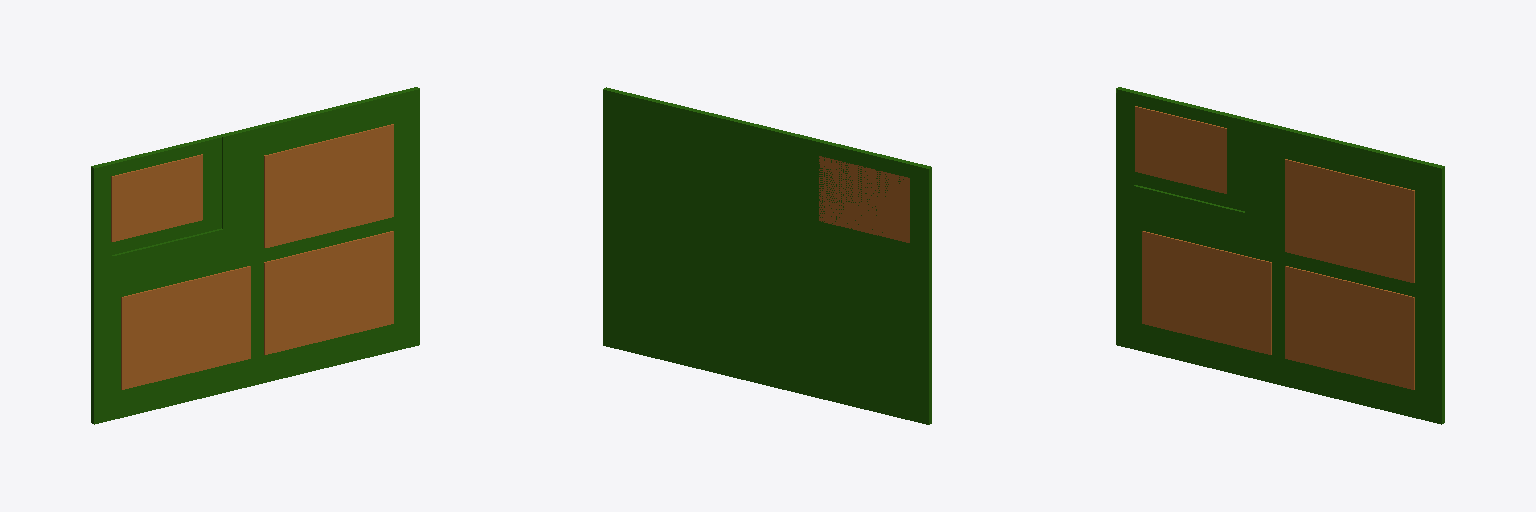
Rendered from TestPCBC.obj.
3 views of the same model, side by side, from view 1: azimuth 30°, elevation 25°; view 2: azimuth 150°, elevation 25°; view 3: azimuth 330°, elevation 25° (orthographic).
Visible parts, largest first — view 1: Base, Pad 3, Part 4, Pad 2, Pad 1; view 2: Base, Pad 1; view 3: Base, Pad 2, Pad 3, Part 4, Pad 1.
Boxes of the visible parts, box(x1,y1,x2,y2) form: Base: box(91, 87, 419, 424); Pad 3: box(264, 231, 393, 354); Part 4: box(264, 124, 393, 247); Pad 2: box(121, 266, 250, 389); Pad 1: box(111, 154, 202, 241); Base: box(603, 87, 931, 424); Pad 1: box(819, 156, 909, 242); Base: box(1116, 87, 1444, 424); Pad 2: box(1142, 231, 1271, 354); Pad 3: box(1285, 266, 1414, 389); Part 4: box(1285, 159, 1414, 282); Pad 1: box(1135, 106, 1226, 193).
Bounding box in the file's own units: 305 × 229 × 6.35.